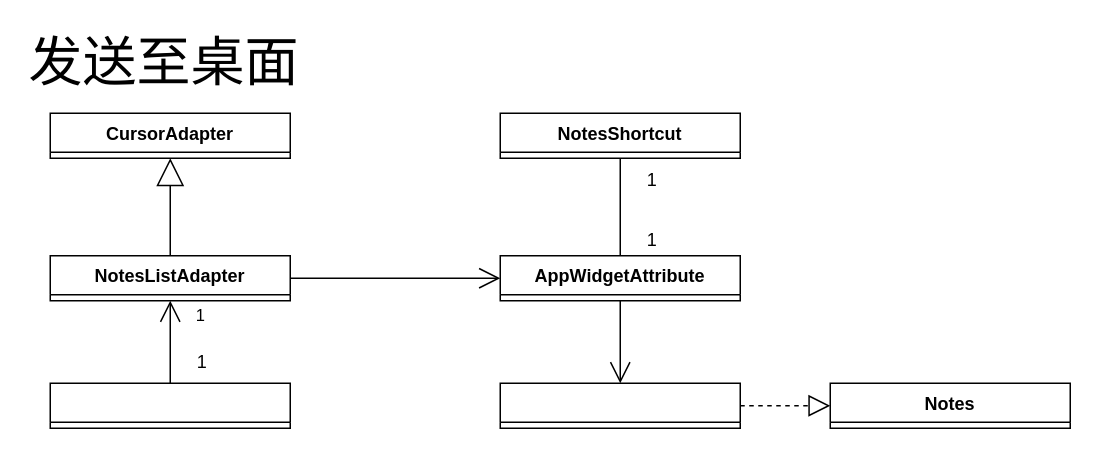
Image size: 1097x455. Some labels were removed from this diagram. The shapes that lost their labels are listed below. From the top down, each one's centre as x and y in pixels, then its label:
At pixel 169 405: "User".
At pixel 619 405: "NotesDatabaseHelper".
